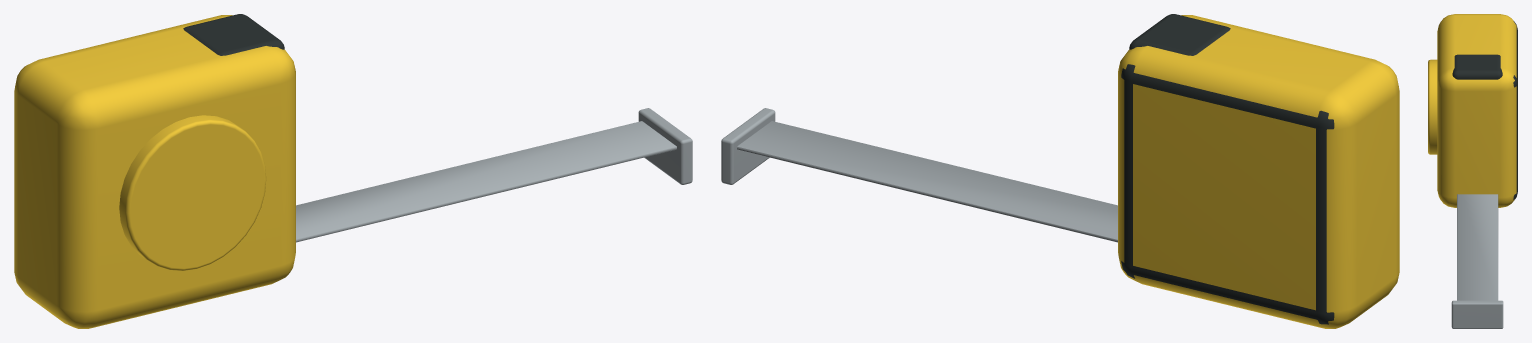
The model's file is tape-pocket-tape-measure.glb.
3 views of the same model, side by side, from view 1: azimuth 30°, elevation 25°; view 2: azimuth 150°, elevation 25°; view 3: azimuth 270°, elevation 25° (orthographic). The views are drawn at different scales.
Visible parts, largest first — view 1: Rounded tape case, Tape-case side medallion, Short extended steel tape, Thumb tape lock, Bent tape end hook; view 2: Rounded tape case, Short extended steel tape, Rubber case grip, Thumb tape lock, Bent tape end hook; view 3: Rounded tape case, Short extended steel tape, Bent tape end hook, Thumb tape lock, Tape-case side medallion, Rubber case grip.
Part boxes in pixels (left/top/right/bottom): Rounded tape case: left=14, top=15, right=295, bottom=328; Tape-case side medallion: left=119, top=115, right=266, bottom=270; Short extended steel tape: left=296, top=121, right=676, bottom=242; Thumb tape lock: left=183, top=14, right=284, bottom=55; Bent tape end hook: left=638, top=108, right=692, bottom=184; Rounded tape case: left=1118, top=15, right=1399, bottom=328; Short extended steel tape: left=737, top=121, right=1117, bottom=242; Rubber case grip: left=1121, top=64, right=1334, bottom=324; Thumb tape lock: left=1129, top=14, right=1230, bottom=55; Bent tape end hook: left=721, top=108, right=775, bottom=184; Rounded tape case: left=1437, top=14, right=1516, bottom=207; Short extended steel tape: left=1457, top=194, right=1498, bottom=300; Bent tape end hook: left=1451, top=300, right=1503, bottom=328; Thumb tape lock: left=1452, top=54, right=1502, bottom=79; Tape-case side medallion: left=1428, top=59, right=1437, bottom=154; Rubber case grip: left=1513, top=21, right=1517, bottom=199.
Size of the model in its own units: 0.2075 by 0.0755 by 0.0435.
Materials: 3 (3 with a texture image).
